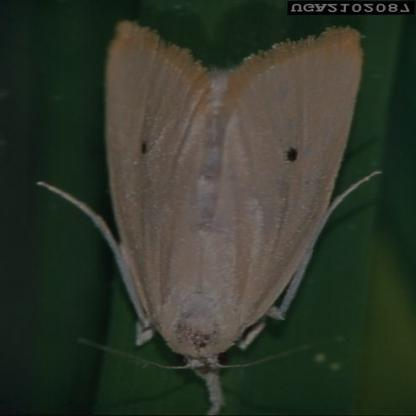stem-borer: (35, 17, 384, 416)
